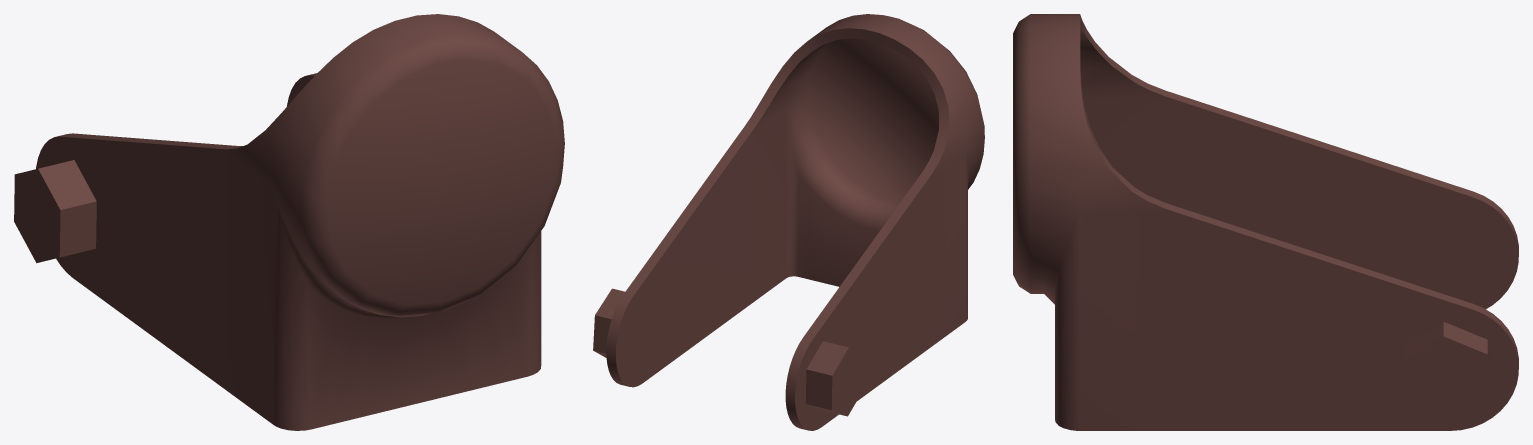
File: carter_coaster.FBX
3 views of the same model, side by side, from view 1: azimuth 30°, elevation 25°; view 2: azimuth 150°, elevation 25°; view 3: azimuth 270°, elevation 25° (orthographic). The views are drawn at different scales.
Visible parts, largest first — view 1: carter_coaster; view 2: carter_coaster; view 3: carter_coaster.
Part boxes in pixels (bbox=[...]): carter_coaster: bbox=[14, 14, 564, 430]; carter_coaster: bbox=[593, 14, 984, 430]; carter_coaster: bbox=[1013, 14, 1518, 430].
Size of the model in its own units: 8.02 by 8.63 by 11.47.
